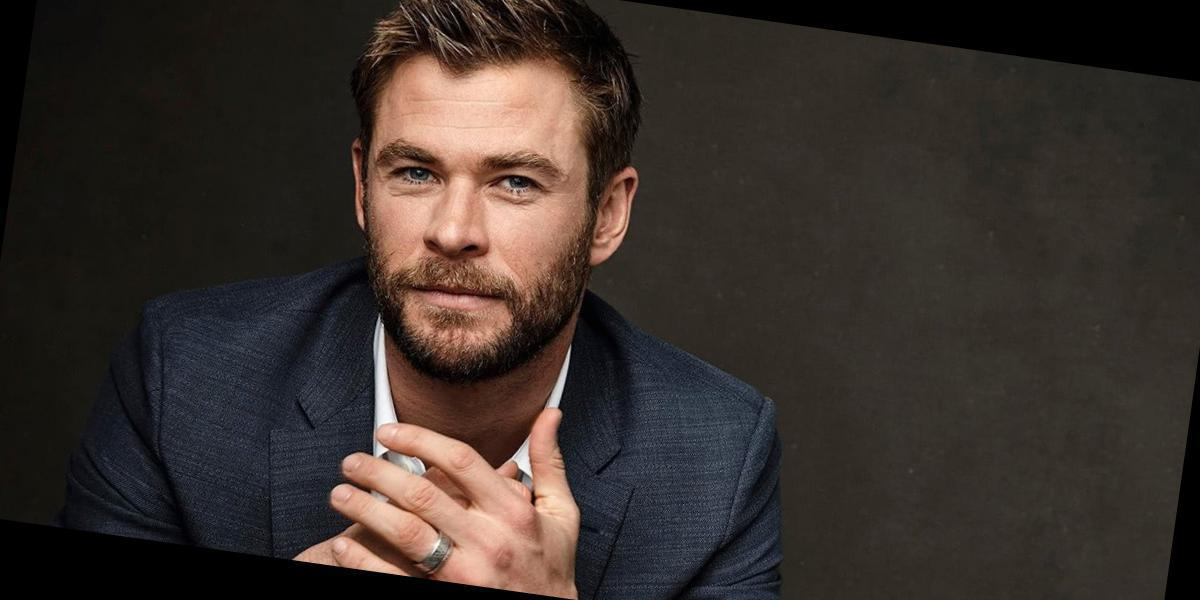Sober: (378, 49, 584, 355)
